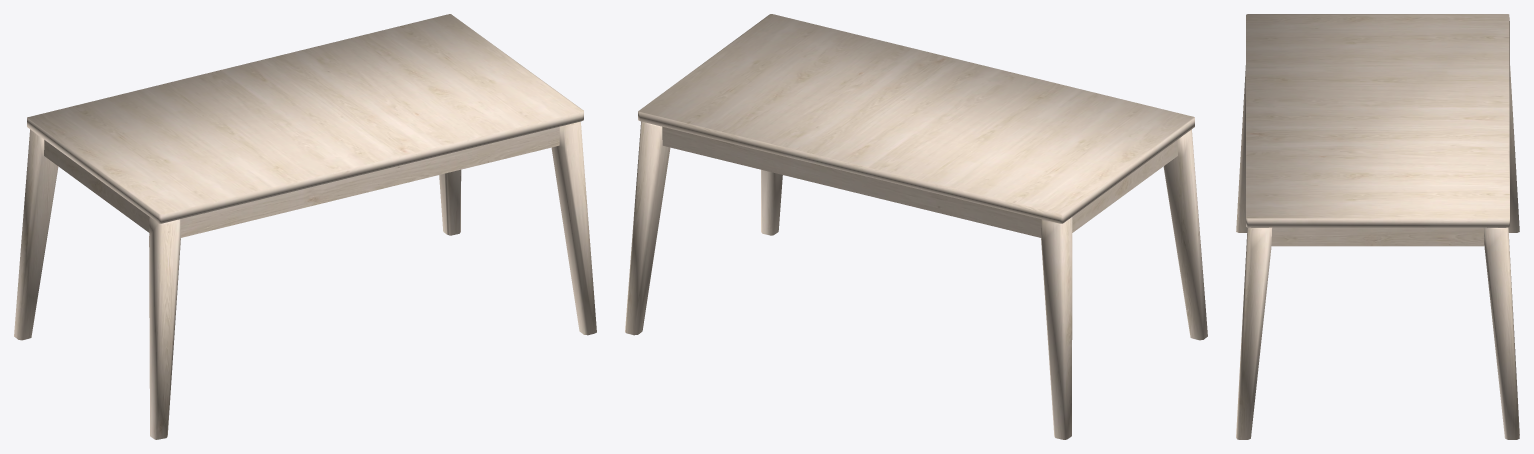
File: abo-B07H8SZNZF.glb
3 views of the same model, side by side, from view 1: azimuth 30°, elevation 25°; view 2: azimuth 150°, elevation 25°; view 3: azimuth 270°, elevation 25° (orthographic).
Parts seen in each view (by area): view 1: B07H8SZNZF; view 2: B07H8SZNZF; view 3: B07H8SZNZF.
Part boxes in pixels (x1,y1,x2,y2): B07H8SZNZF: [14, 14, 596, 439]; B07H8SZNZF: [625, 14, 1207, 439]; B07H8SZNZF: [1236, 14, 1519, 439].
Size of the model in its own units: 1.6 by 0.759 by 0.8995.
1 material, 1 textured.
